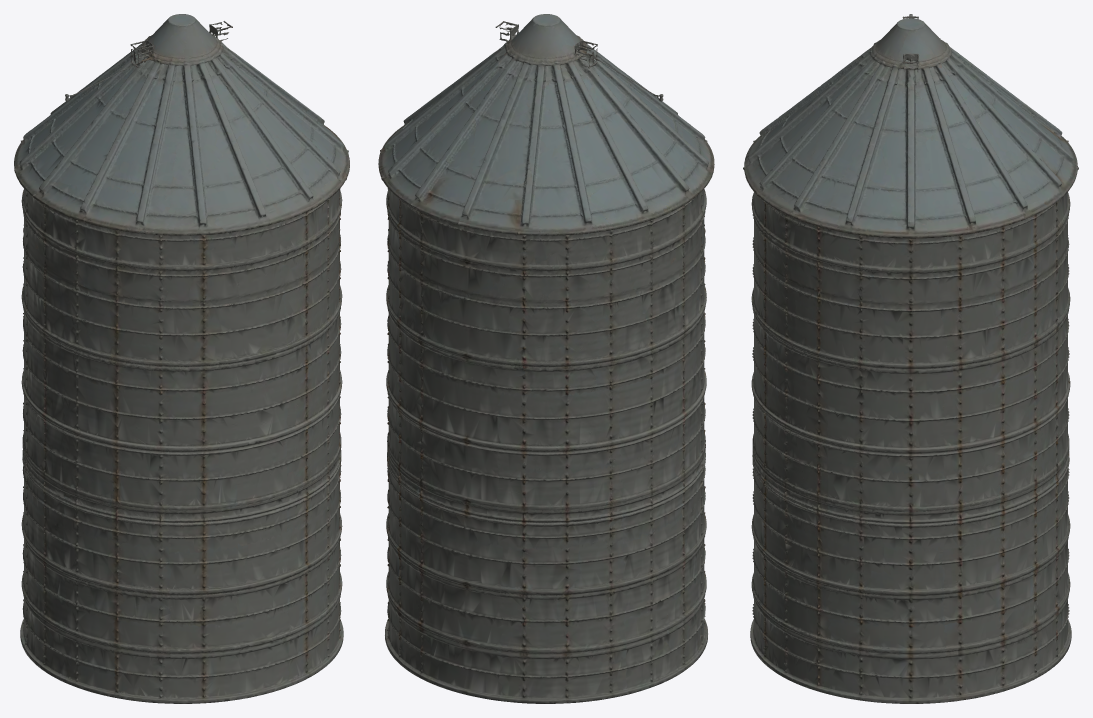
The model's file is Meshy_AI_A_tall_cylindrical_me_0823164945_texture-optimized.glb.
3 views of the same model, side by side, from view 1: azimuth 30°, elevation 25°; view 2: azimuth 150°, elevation 25°; view 3: azimuth 270°, elevation 25° (orthographic).
Parts seen in each view (by area): view 1: mesh_node; view 2: mesh_node; view 3: mesh_node.
Boxes of the visible parts, x1,y1,x2,y2 form: mesh_node: (14,14,349,703); mesh_node: (378,14,714,703); mesh_node: (743,14,1078,703).
Size of the model in its own units: 0.939 by 1.9 by 0.9441.
Materials: 1 (1 with a texture image).
